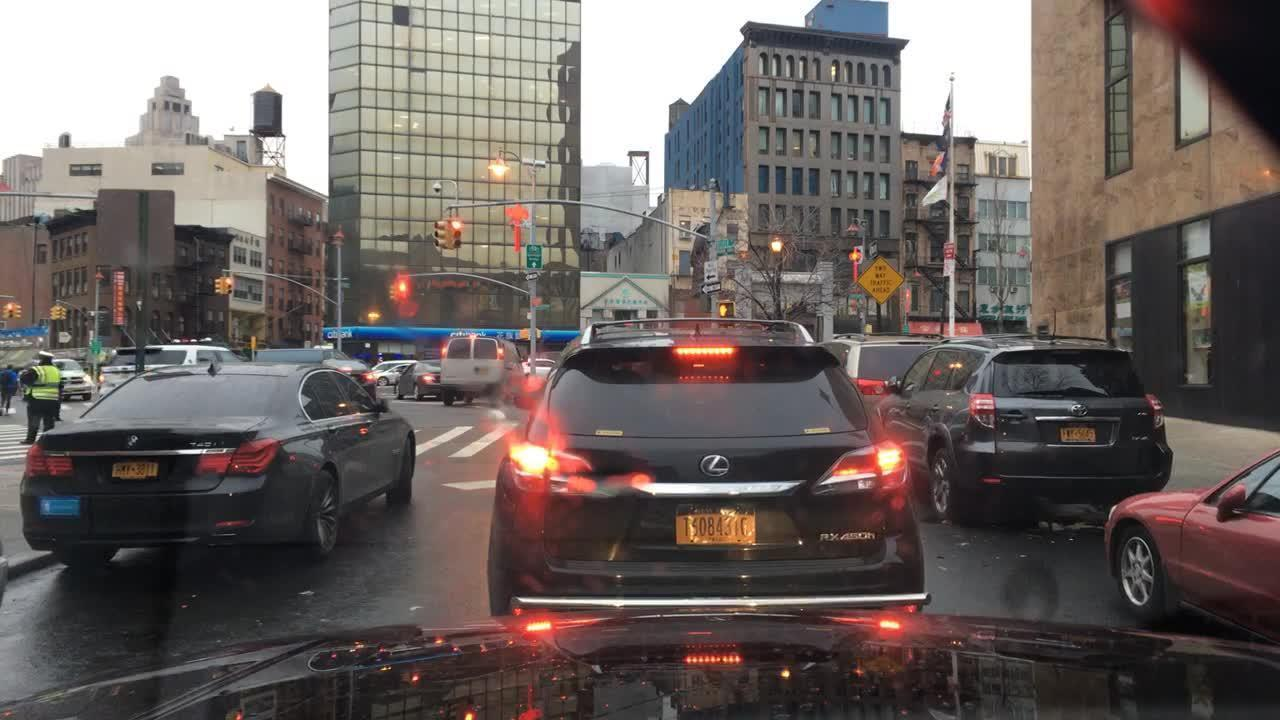Toyota: (1066, 402, 1095, 421)
bmw: (121, 433, 145, 453)
lexus: (692, 449, 738, 478)
